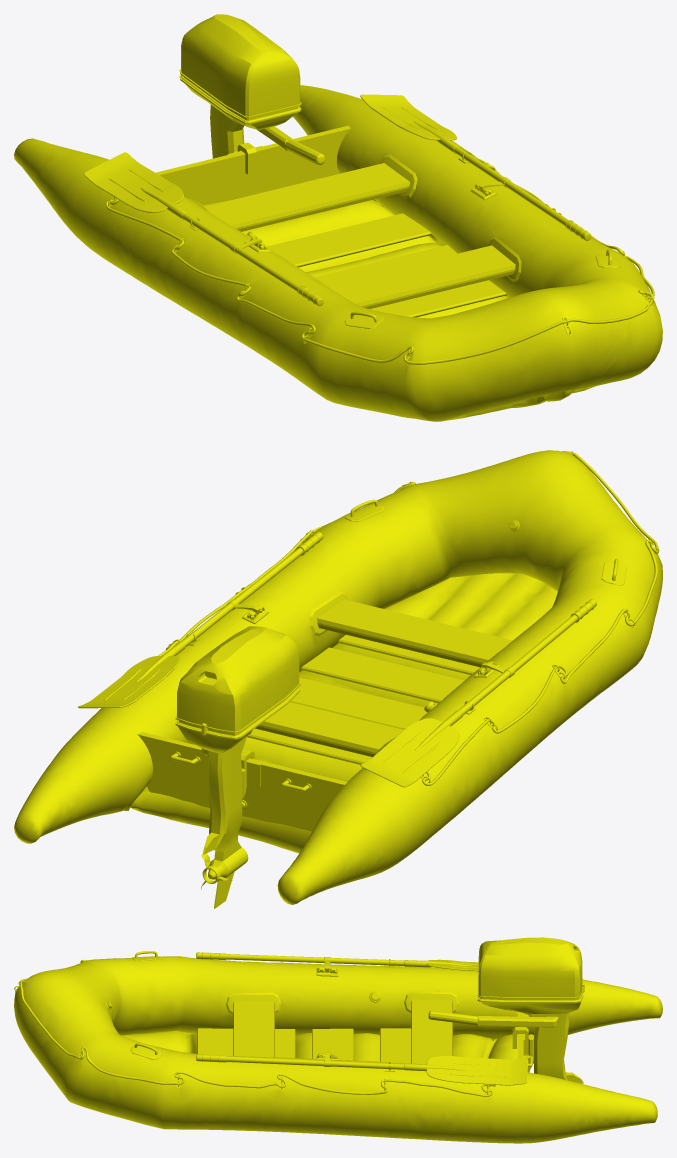
The picture shows the model from 3 angles, top to bottom: view 1: azimuth 30°, elevation 25°; view 2: azimuth 150°, elevation 25°; view 3: azimuth 270°, elevation 25°; orthographic projection. The views are drawn at different scales.
Parts seen in each view (by area): view 1: Rescue_Boat:BOAT, Rescue_Boat:TOOLS; view 2: Rescue_Boat:BOAT, Rescue_Boat:TOOLS; view 3: Rescue_Boat:BOAT, Rescue_Boat:TOOLS.
Boxes of the visible parts, bbox=[...] form: Rescue_Boat:BOAT: bbox=[14, 85, 662, 421]; Rescue_Boat:TOOLS: bbox=[84, 14, 654, 366]; Rescue_Boat:BOAT: bbox=[14, 450, 662, 904]; Rescue_Boat:TOOLS: bbox=[78, 451, 659, 908]; Rescue_Boat:BOAT: bbox=[14, 956, 662, 1143]; Rescue_Boat:TOOLS: bbox=[14, 937, 584, 1096].
Size of the model in its own units: 0.0972 by 0.067 by 0.2071.
1 material, 1 textured.
